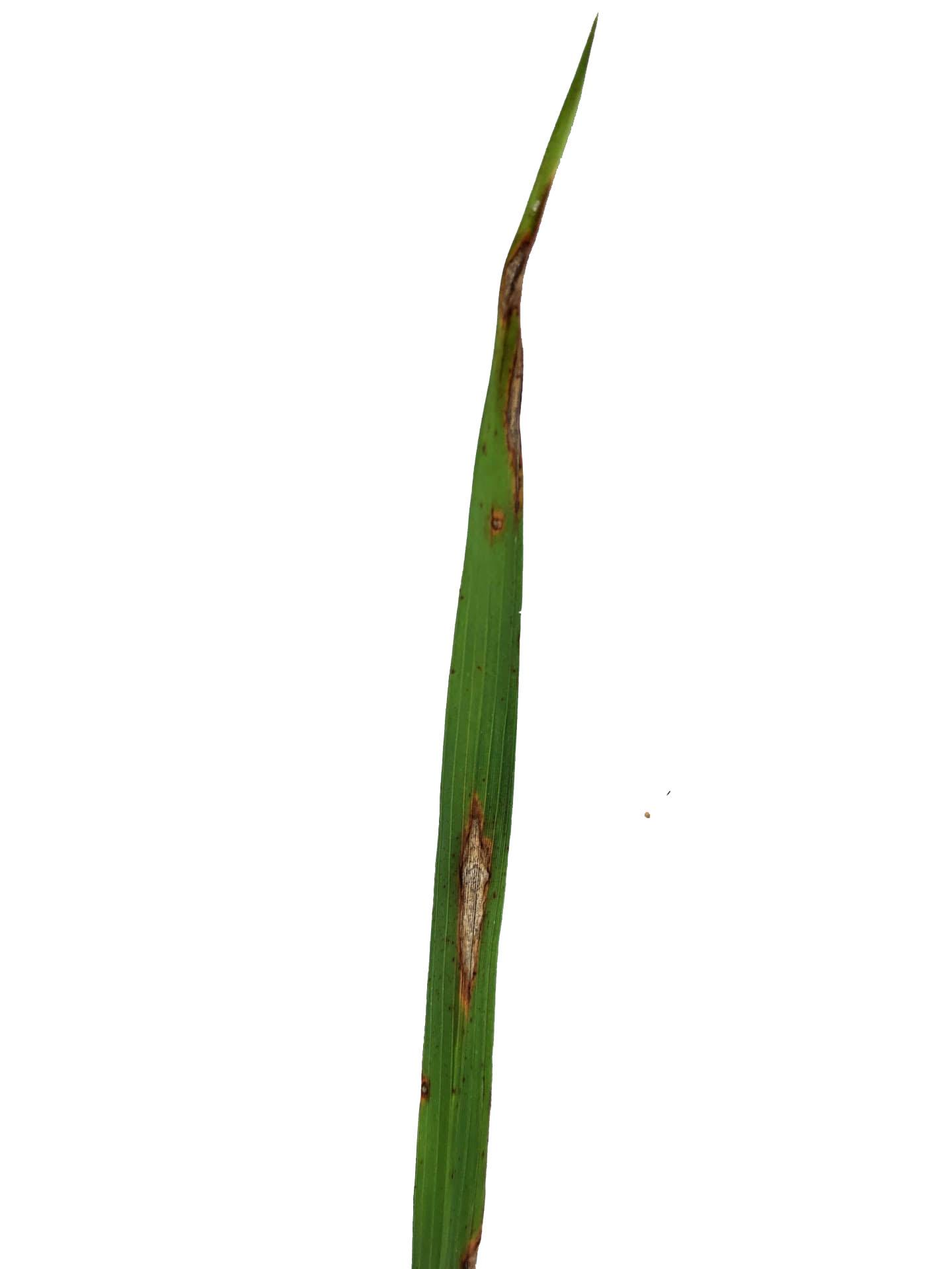Rice blast: (453, 787, 491, 1022)
